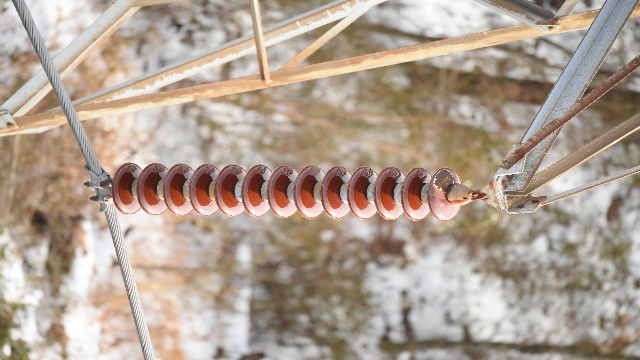insulator_unspecified: (112, 163, 462, 222)
pollution_flashover_local: (436, 168, 454, 190)
